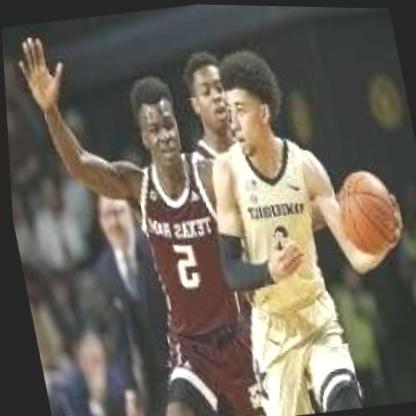basketball: (322, 152, 407, 268)
